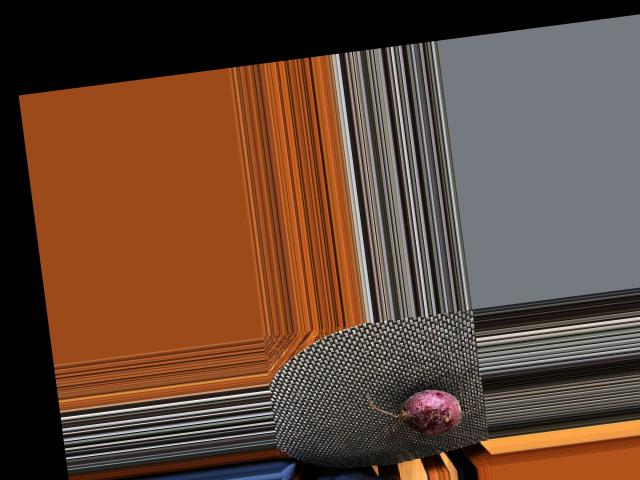beet: (366, 380, 463, 443)
